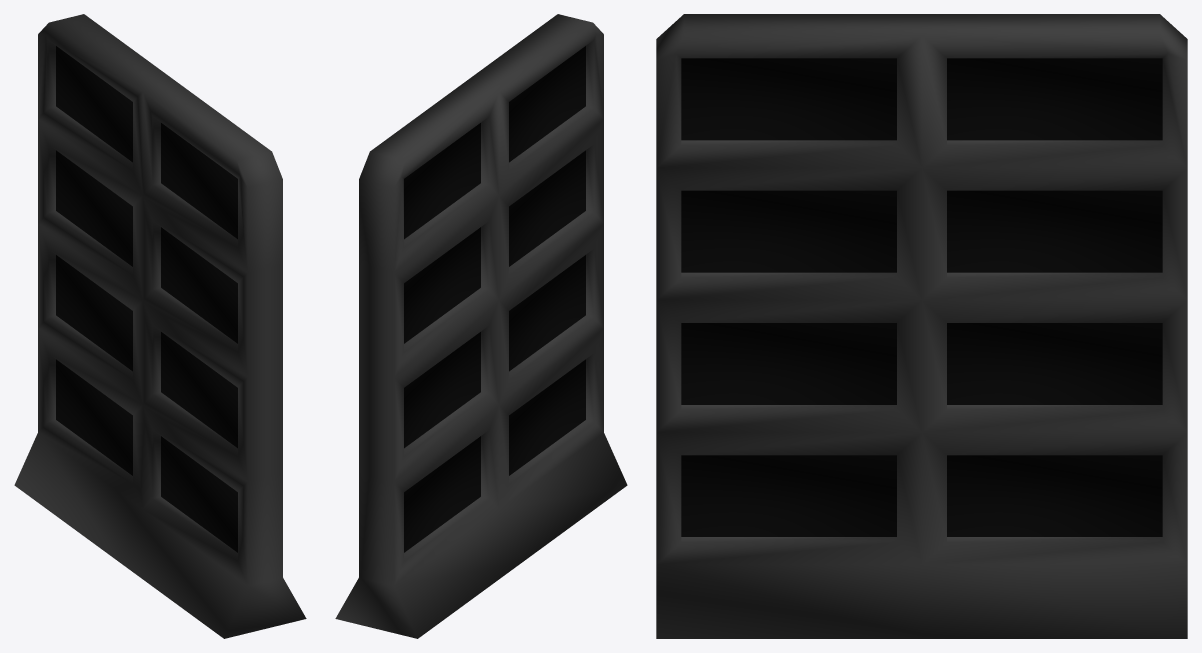
The model's file is ConcreteBarrier.obj.
3 views of the same model, side by side, from view 1: azimuth 30°, elevation 25°; view 2: azimuth 150°, elevation 25°; view 3: azimuth 270°, elevation 25° (orthographic). The views are drawn at different scales.
Visible parts, largest first — view 1: ConcreteBarrier_Cube.006; view 2: ConcreteBarrier_Cube.006; view 3: ConcreteBarrier_Cube.006.
Part boxes in pixels (x1,y1,x2,y2): ConcreteBarrier_Cube.006: (14, 14, 306, 638); ConcreteBarrier_Cube.006: (335, 14, 627, 638); ConcreteBarrier_Cube.006: (656, 14, 1187, 638).
Bounding box in the file's own units: 0.8103 × 4.37 × 3.57.
